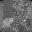people: (2, 17, 15, 27)
